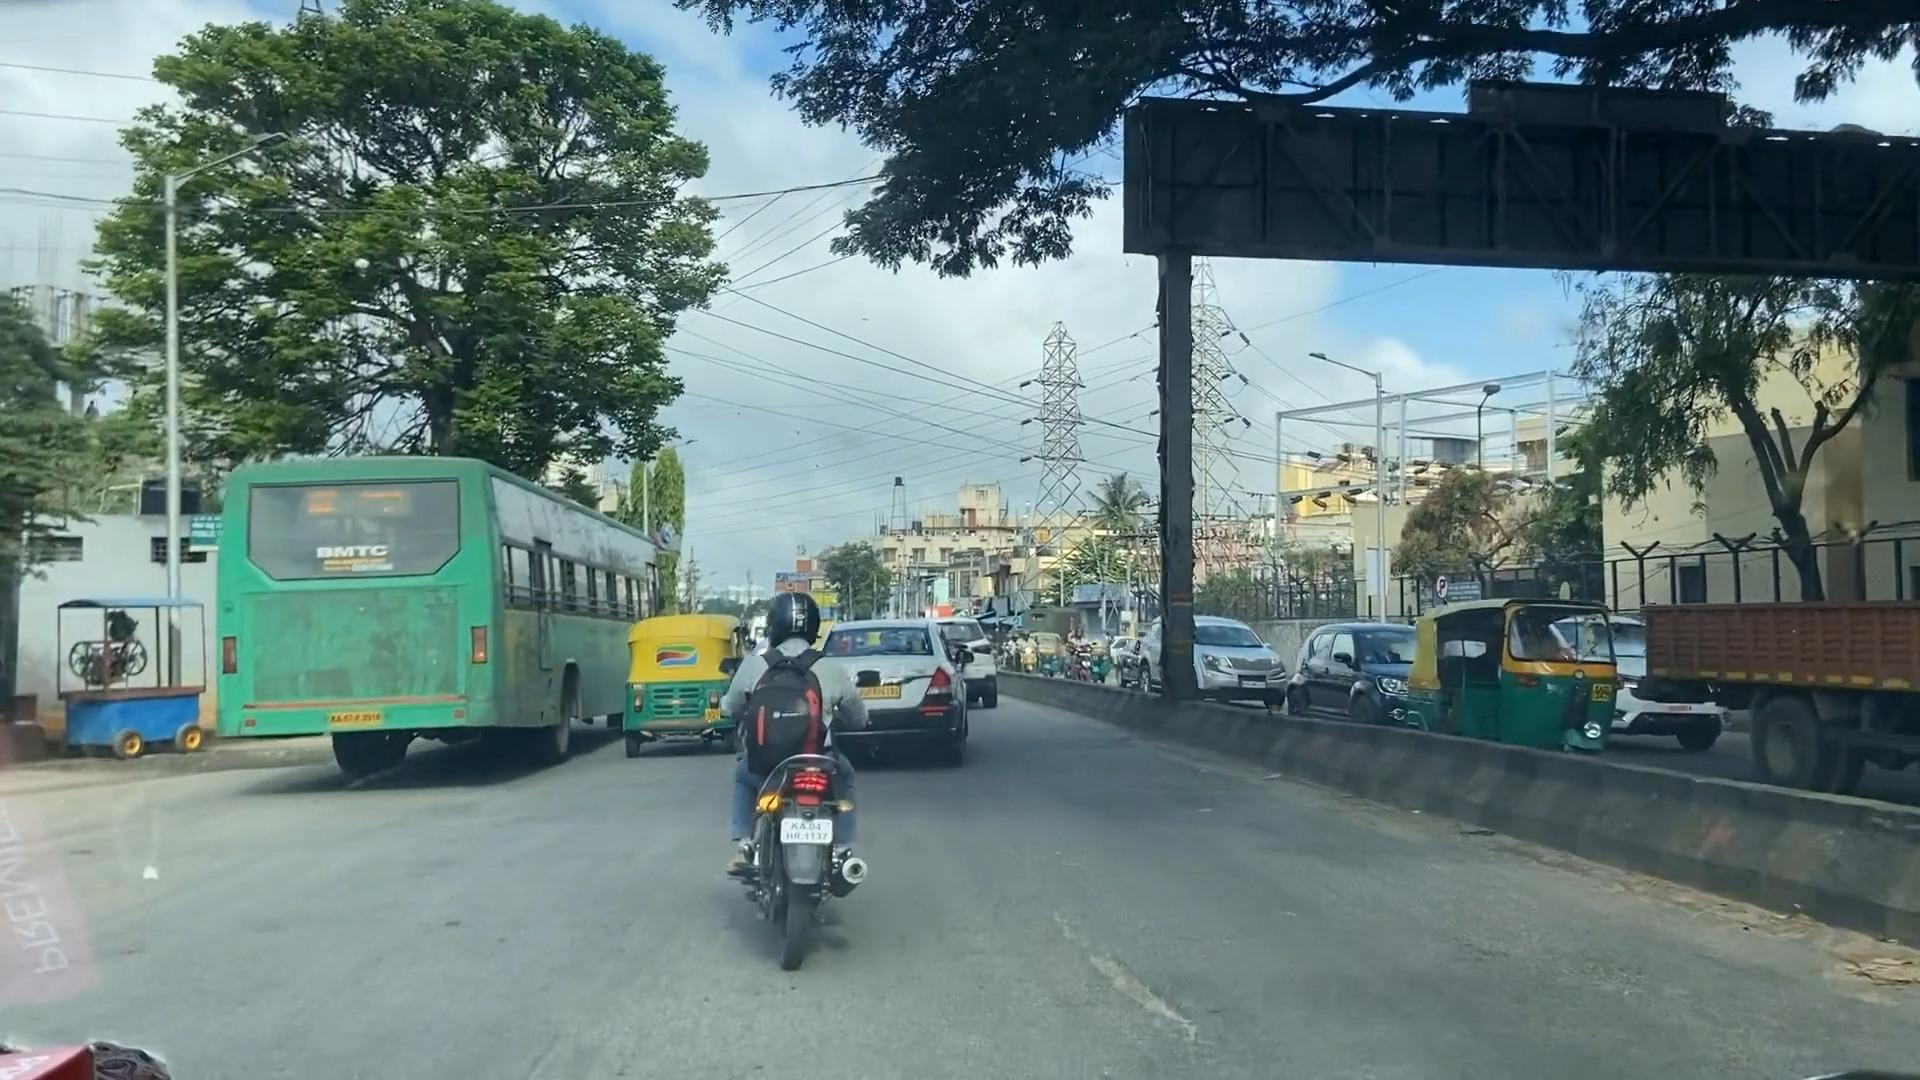HMV: (222, 462, 615, 752)
LMV: (756, 592, 861, 948), (632, 611, 733, 744)
RoadDamages: (1042, 894, 1201, 1062)
